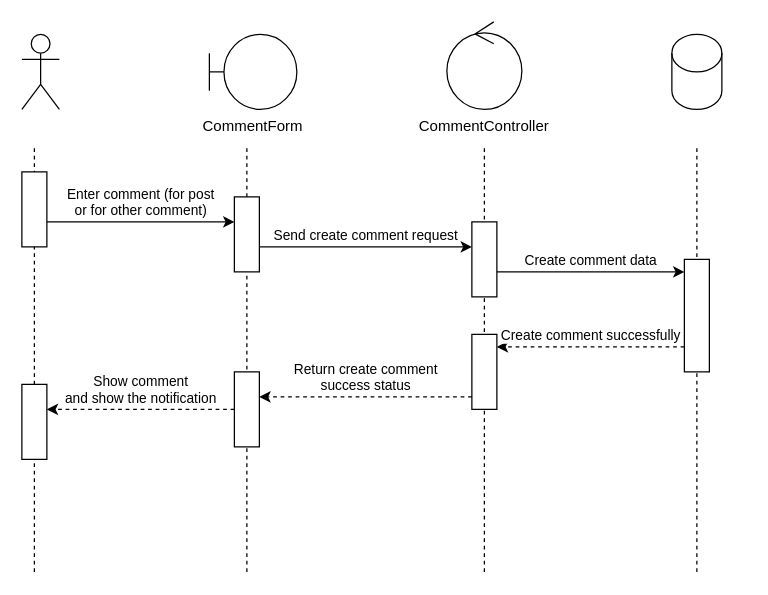
The diagram is 768 pixels wide and 595 high, and some of its shapes have lost their labels. Each missing label, with the centre of its shape:
Post Database: (x=696, y=71)
User: (x=40, y=71)
